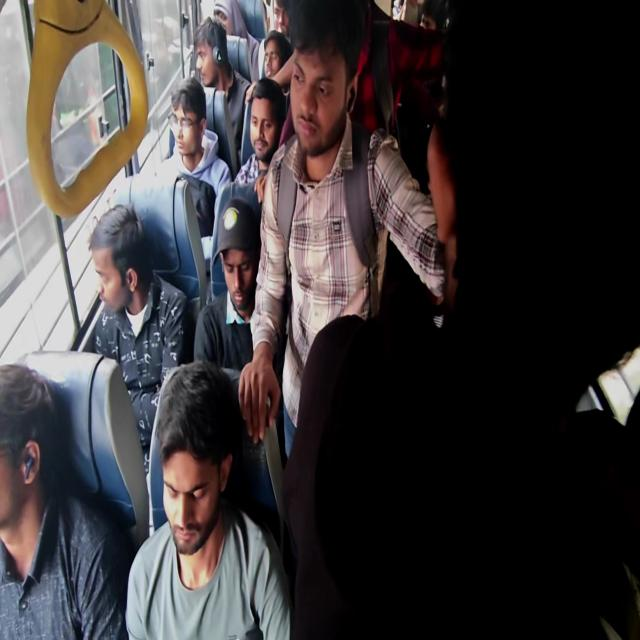person: (256, 5, 444, 468), (1, 358, 134, 638), (156, 78, 232, 238), (156, 420, 240, 535), (292, 0, 364, 89), (402, 0, 453, 113), (89, 203, 146, 284), (171, 76, 207, 124), (250, 77, 286, 125), (234, 0, 268, 41), (225, 35, 253, 84), (263, 28, 290, 68), (420, 0, 448, 32), (168, 122, 176, 159)
